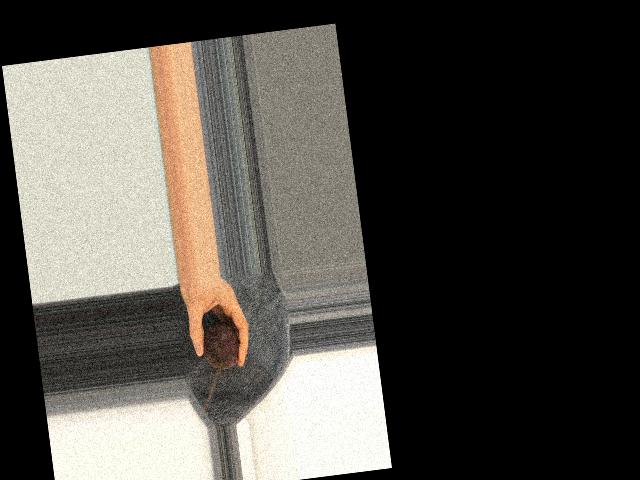beet: (200, 321, 241, 371)
